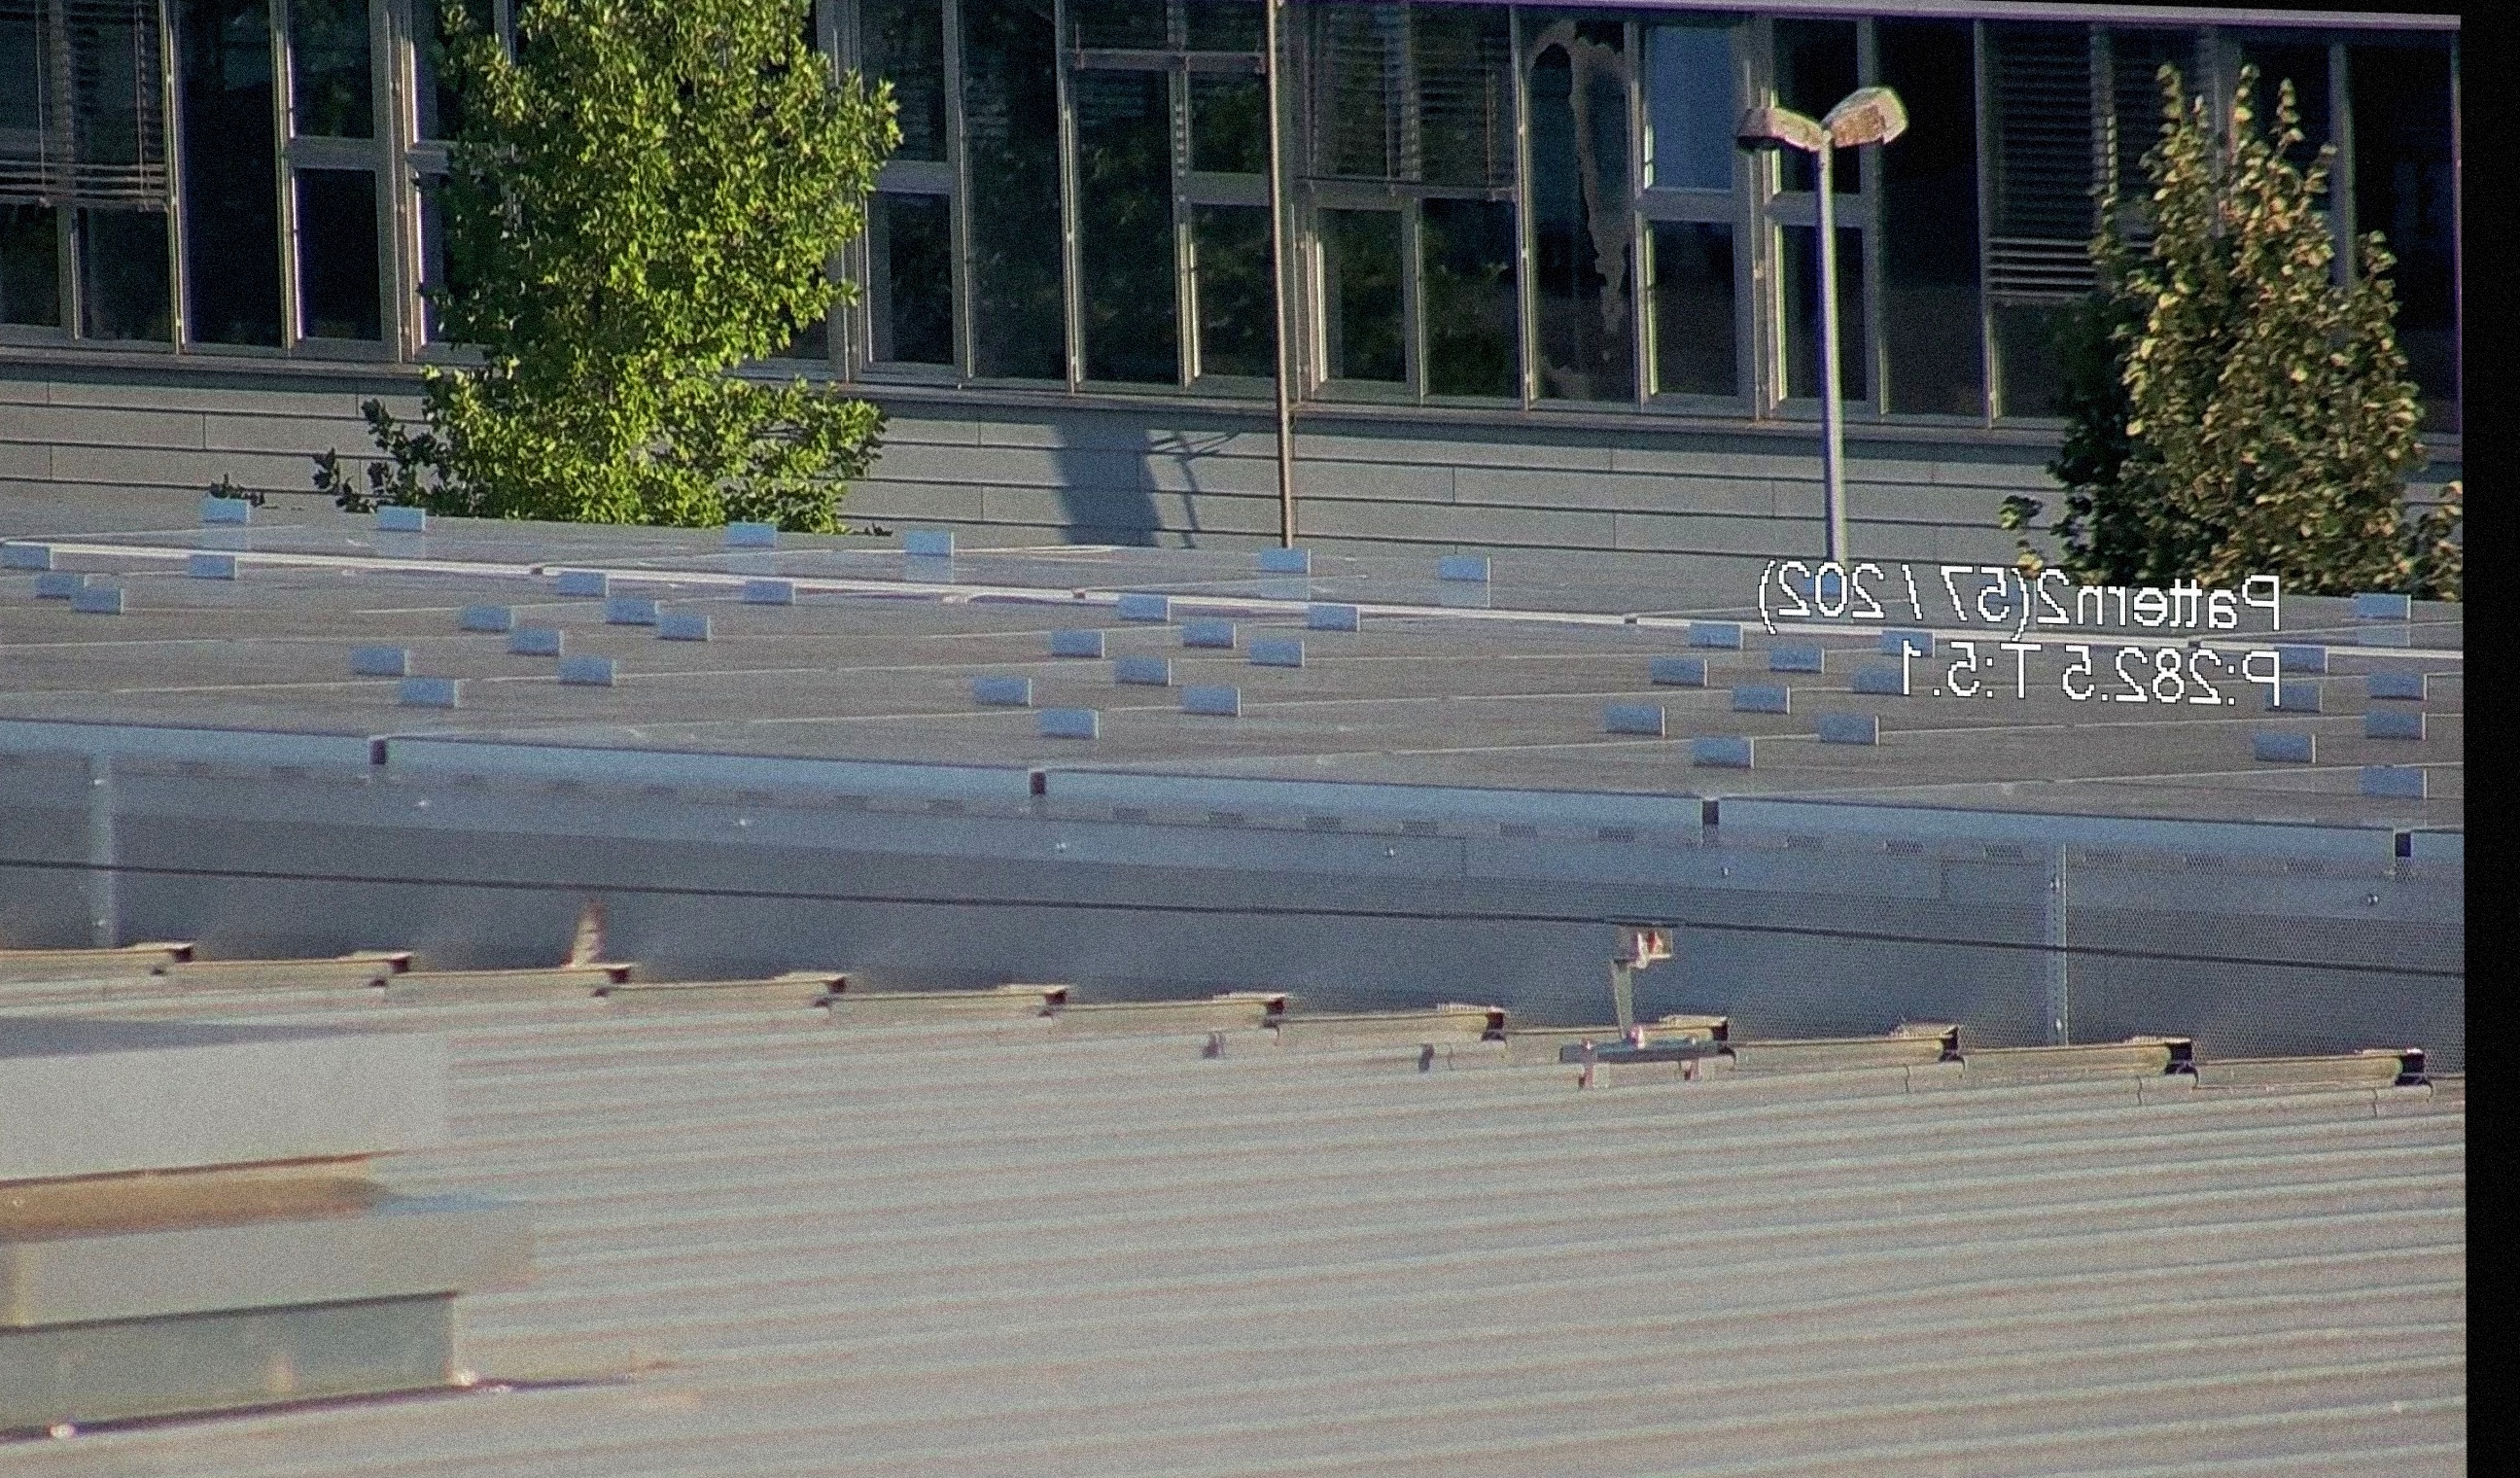Other: (536, 887, 638, 1003)
